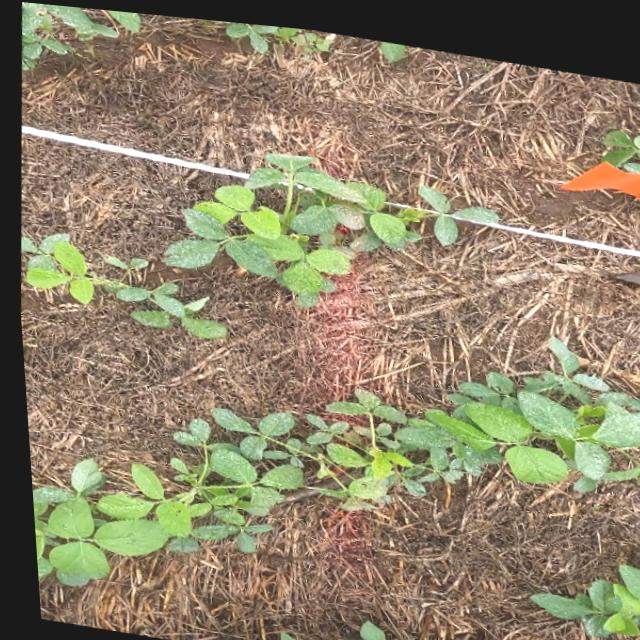soy_plant: (26, 327, 640, 582), (160, 146, 426, 300), (17, 233, 221, 332), (522, 551, 640, 624), (20, 2, 116, 66), (420, 178, 495, 232), (212, 16, 332, 46), (601, 117, 640, 158), (381, 32, 404, 52)
